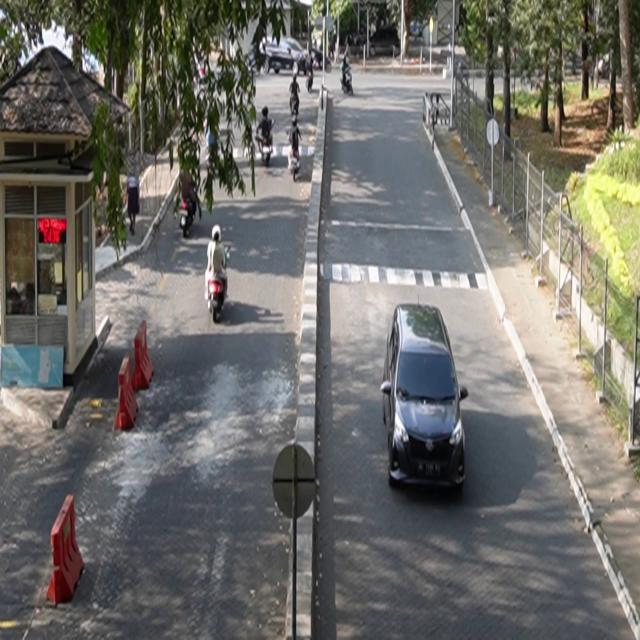car: (382, 301, 470, 492)
